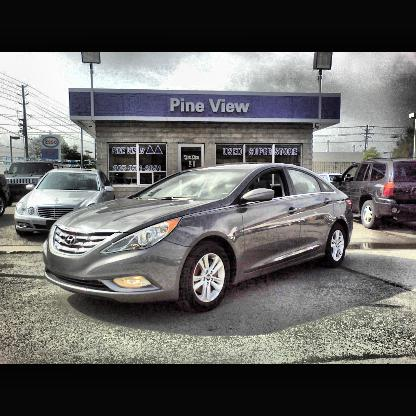Hyundai Sonata Sedan 2012: (39, 150, 369, 321)
